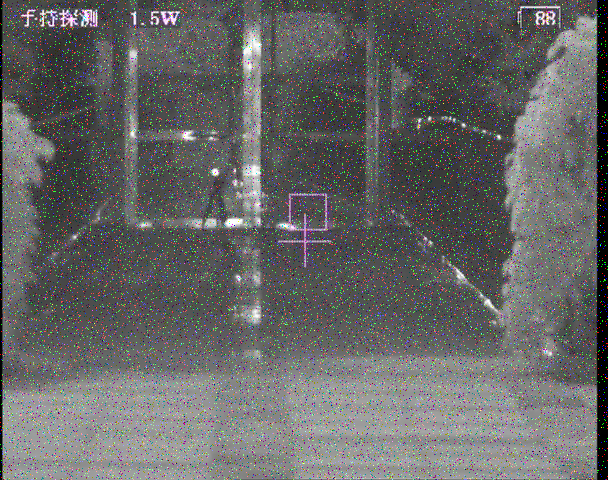my: (210, 166, 221, 178)
